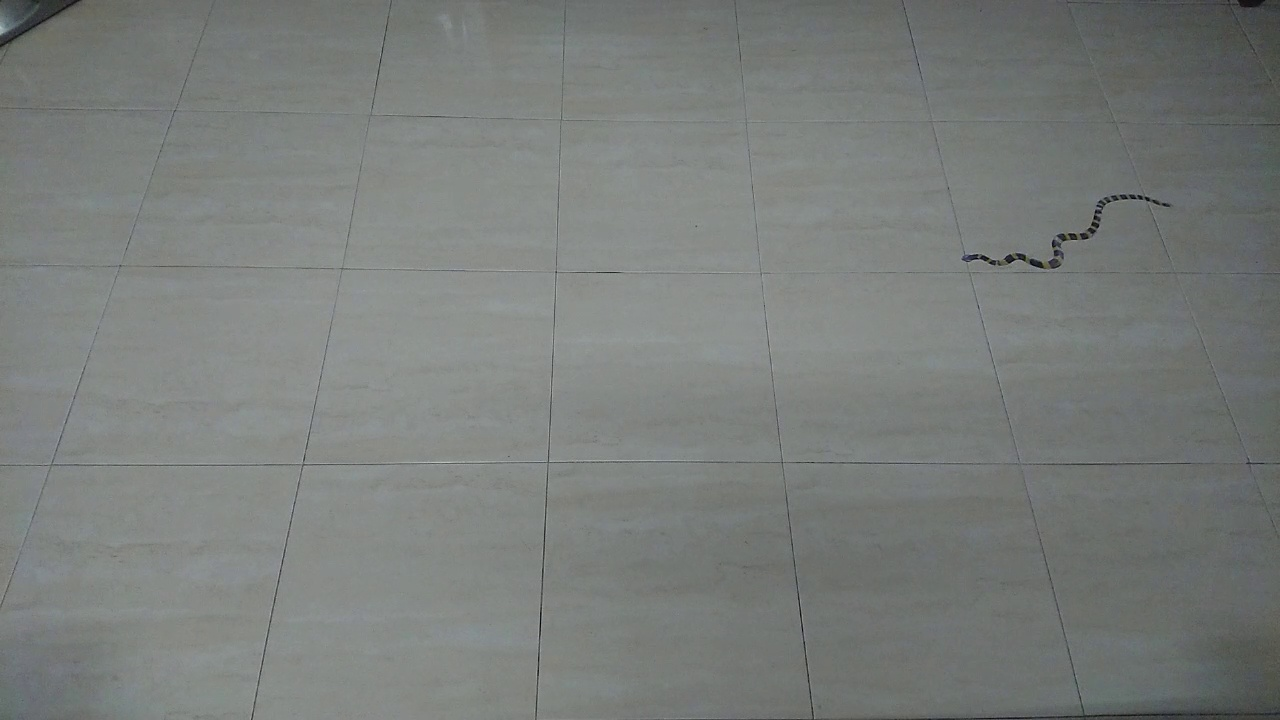snake: (950, 181, 1181, 285)
